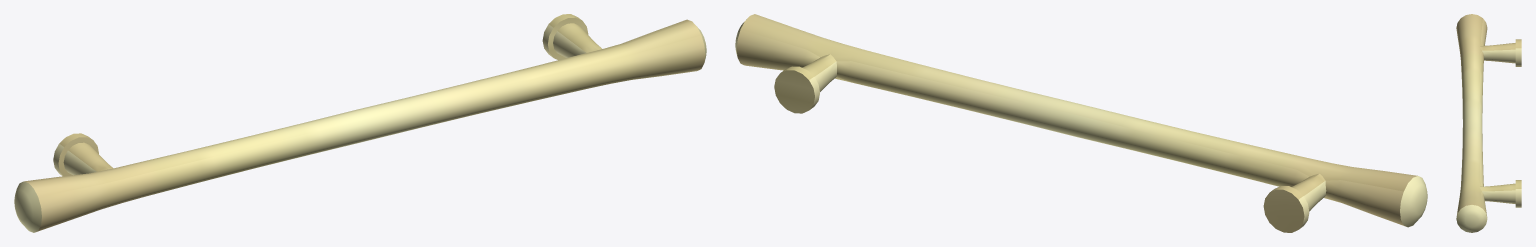
Rendered from brass-elysium.glb.
3 renders of one model, left to right at view 1: azimuth 30°, elevation 25°; view 2: azimuth 150°, elevation 25°; view 3: azimuth 270°, elevation 25°, orthographic. The views are drawn at different scales.
Parts seen in each view (by area): view 1: ELYSIUM; view 2: ELYSIUM; view 3: ELYSIUM.
Boxes of the visible parts, bbox=[...] form: ELYSIUM: bbox=[14, 14, 706, 232]; ELYSIUM: bbox=[735, 14, 1427, 232]; ELYSIUM: bbox=[1456, 14, 1521, 232].
Bounding box in the file's own units: 7.16 × 0.4827 × 1.01.
Materials: 1 (1 with a texture image).
